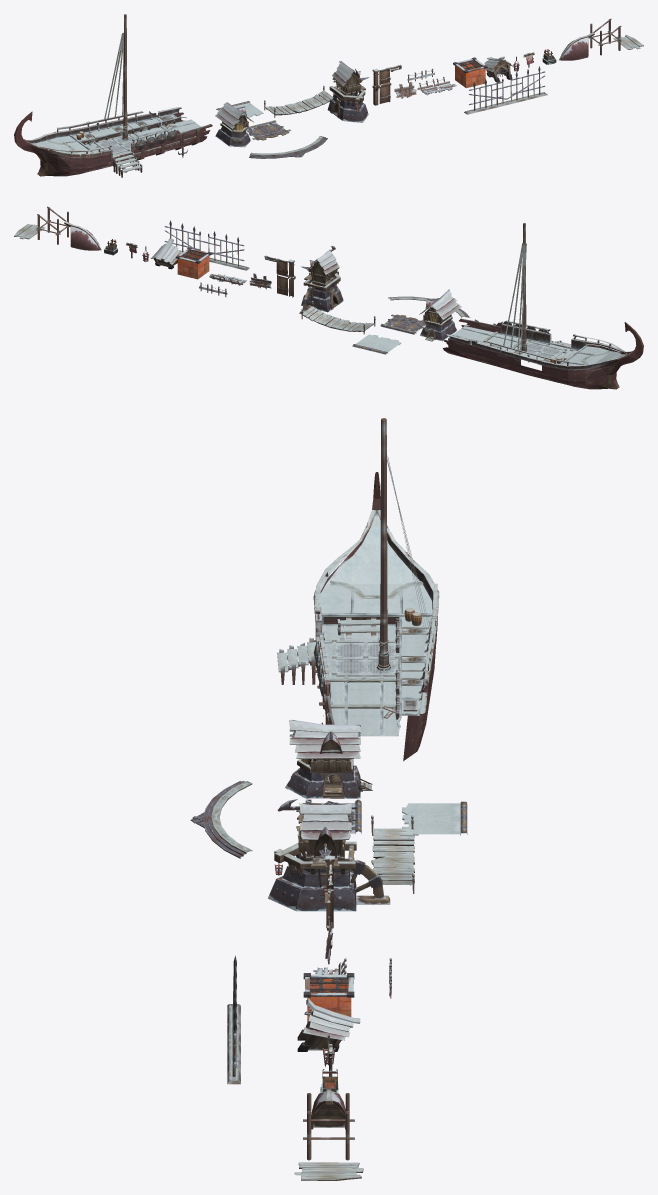
File: f_2105_Thing_01.FBX
The picture shows the model from 3 angles, top to bottom: view 1: azimuth 30°, elevation 25°; view 2: azimuth 150°, elevation 25°; view 3: azimuth 270°, elevation 25°; orthographic projection. The views are drawn at different scales.
Parts seen in each view (by area): view 1: f_1999_boat01, f_1999_boat05, f_1999_boat02, Shape001, f_1999_boat10, f_1999_boat04, f_1999_boat03, f_1999_boat15, f_2105_boat03, f_1999_boat11, f_1999_boat16, f_1999_boat07 (+4 smaller); view 2: f_1999_boat01, f_1999_boat05, f_1999_boat02, f_1999_boat10, Shape001, f_1999_boat04, f_1999_boat15, f_1999_boat024, f_1999_boat03, f_1999_boat11, f_1999_boat16, f_1999_boat07; view 3: f_1999_boat01, f_1999_boat05, f_1999_boat02, f_1999_boat04, f_1999_boat024, f_1999_boat11, f_1999_boat10, f_2105_boat03, f_1999_boat17, f_1999_boat15.
Part boxes in pixels (<box>): f_1999_boat01: <box>14,14,212,177</box>; f_1999_boat05: <box>327,61,369,122</box>; f_1999_boat02: <box>215,102,253,147</box>; Shape001: <box>469,66,545,110</box>; f_1999_boat10: <box>453,57,487,88</box>; f_1999_boat04: <box>264,85,334,117</box>; f_1999_boat03: <box>246,120,290,140</box>; f_1999_boat15: <box>559,32,594,60</box>; f_2105_boat03: <box>249,136,327,158</box>; f_1999_boat11: <box>484,56,513,82</box>; f_1999_boat16: <box>589,18,621,55</box>; f_1999_boat07: <box>379,67,391,103</box>; f_1999_boat01: <box>443,223,643,389</box>; f_1999_boat05: <box>299,245,343,314</box>; f_1999_boat02: <box>419,289,461,341</box>; f_1999_boat10: <box>175,247,211,279</box>; Shape001: <box>164,220,244,266</box>; f_1999_boat04: <box>301,301,375,334</box>; f_1999_boat15: <box>64,221,101,250</box>; f_1999_boat024: <box>352,334,401,354</box>; f_1999_boat03: <box>380,314,426,334</box>; f_1999_boat11: <box>151,238,182,269</box>; f_1999_boat16: <box>36,206,70,244</box>; f_1999_boat07: <box>276,258,288,295</box>; f_1999_boat01: <box>277,418,439,761</box>; f_1999_boat05: <box>268,799,390,911</box>; f_1999_boat02: <box>285,719,372,798</box>; f_1999_boat04: <box>371,815,414,893</box>; f_1999_boat024: <box>402,801,467,835</box>; f_1999_boat11: <box>297,998,360,1051</box>; f_1999_boat10: <box>303,973,354,1027</box>; f_2105_boat03: <box>190,780,252,858</box>; f_1999_boat17: <box>294,1162,363,1180</box>; f_1999_boat15: <box>311,1089,345,1129</box>.
Size of the model in its own units: 15087 by 3431 by 2960.
